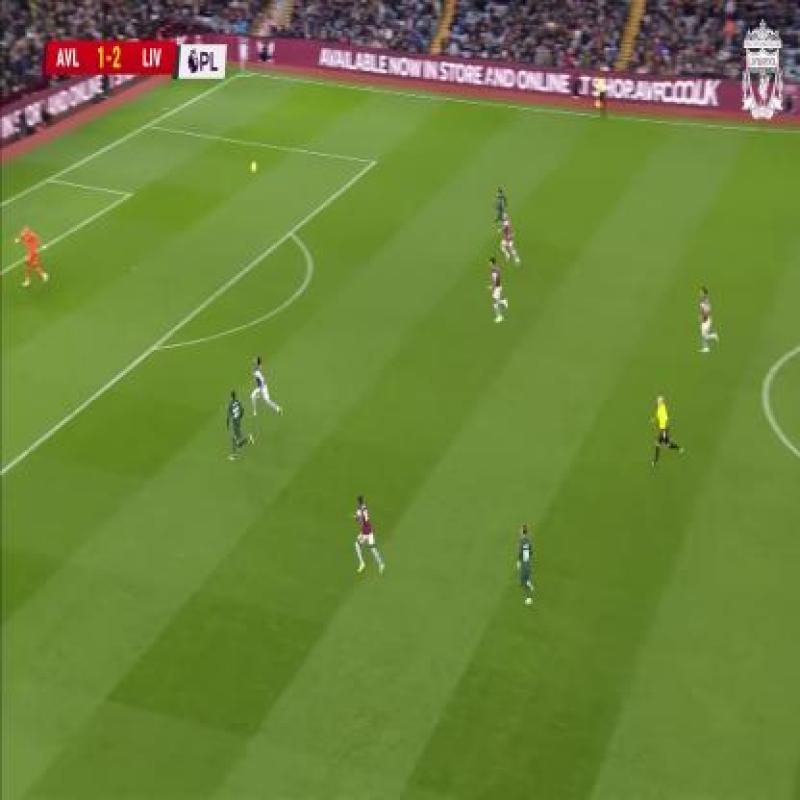1: (239, 69, 252, 79)
10: (282, 219, 298, 250)
11: (144, 334, 168, 362)
2: (142, 118, 156, 132)
3: (42, 171, 58, 189)
7: (124, 188, 138, 206)
9: (368, 152, 384, 171)
c: (748, 354, 782, 414)
